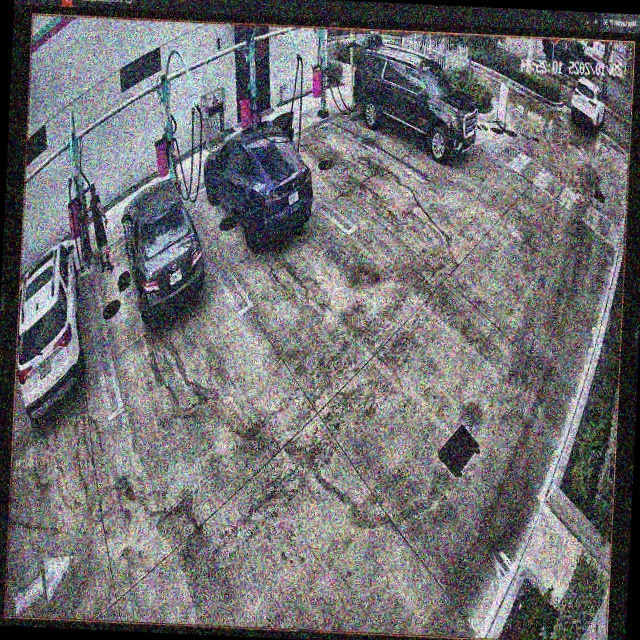Car: (202, 117, 315, 250), (352, 46, 481, 159), (119, 178, 206, 326)
